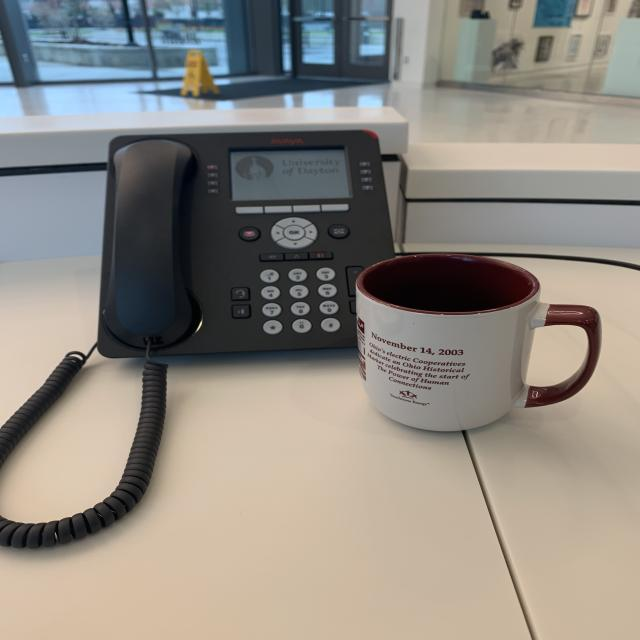Cup: (352, 249, 604, 438)
